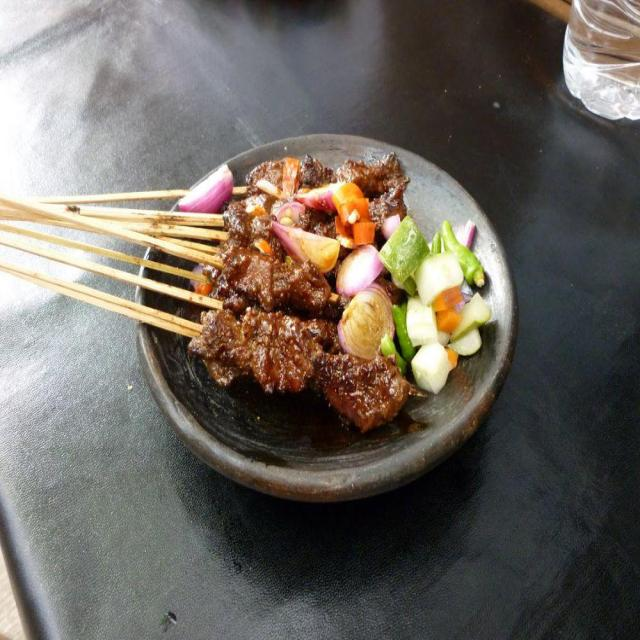Sate: (24, 126, 413, 446)
